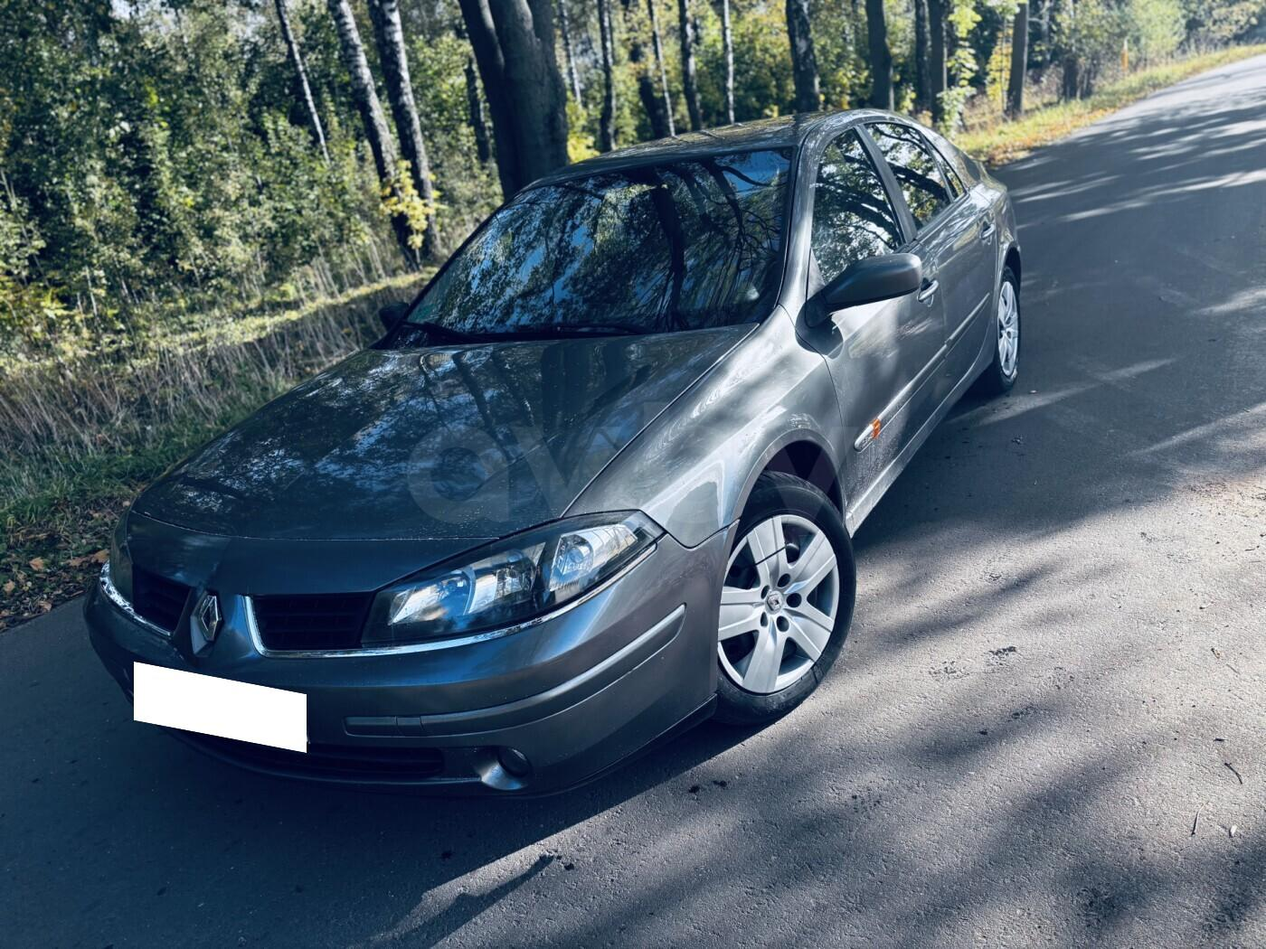Laguna_2005-2007: (87, 101, 1031, 791)
